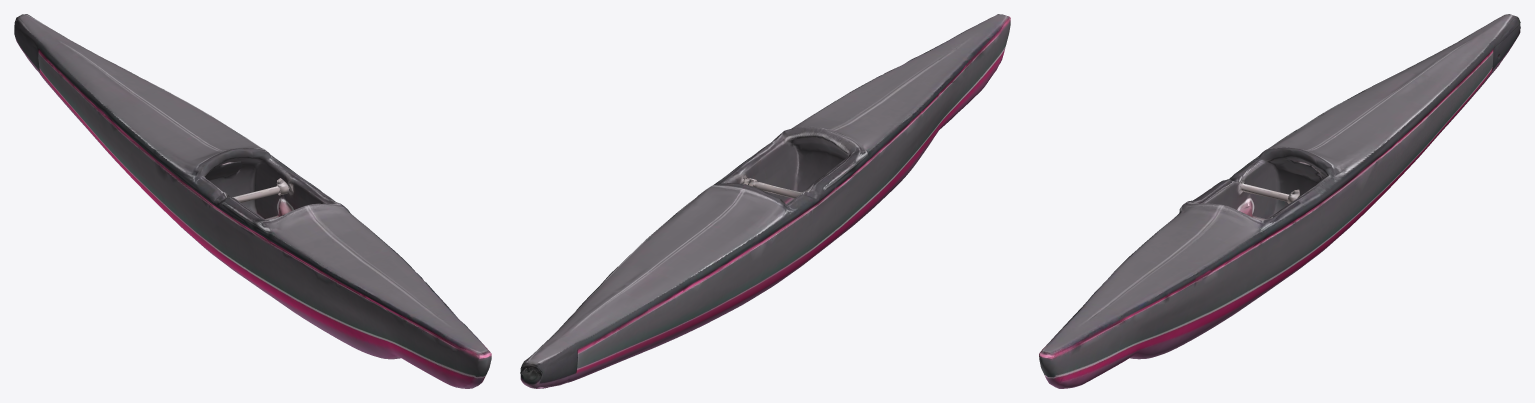
File: scull-pink.glb
The picture shows the model from 3 angles, left to right: view 1: azimuth 30°, elevation 25°; view 2: azimuth 150°, elevation 25°; view 3: azimuth 330°, elevation 25°; orthographic projection. The views are drawn at different scales.
Parts seen in each view (by area): view 1: tripo_node_60aaf2b9-9135-40a8-a463-ad59e4f08e65; view 2: tripo_node_60aaf2b9-9135-40a8-a463-ad59e4f08e65; view 3: tripo_node_60aaf2b9-9135-40a8-a463-ad59e4f08e65.
Part boxes in pixels (bbox=[...]): tripo_node_60aaf2b9-9135-40a8-a463-ad59e4f08e65: bbox=[14, 14, 491, 388]; tripo_node_60aaf2b9-9135-40a8-a463-ad59e4f08e65: bbox=[520, 14, 1010, 388]; tripo_node_60aaf2b9-9135-40a8-a463-ad59e4f08e65: bbox=[1039, 14, 1520, 388].
Size of the model in its own units: 0.1095 by 0.1242 by 0.9832.
1 material, 1 textured.
